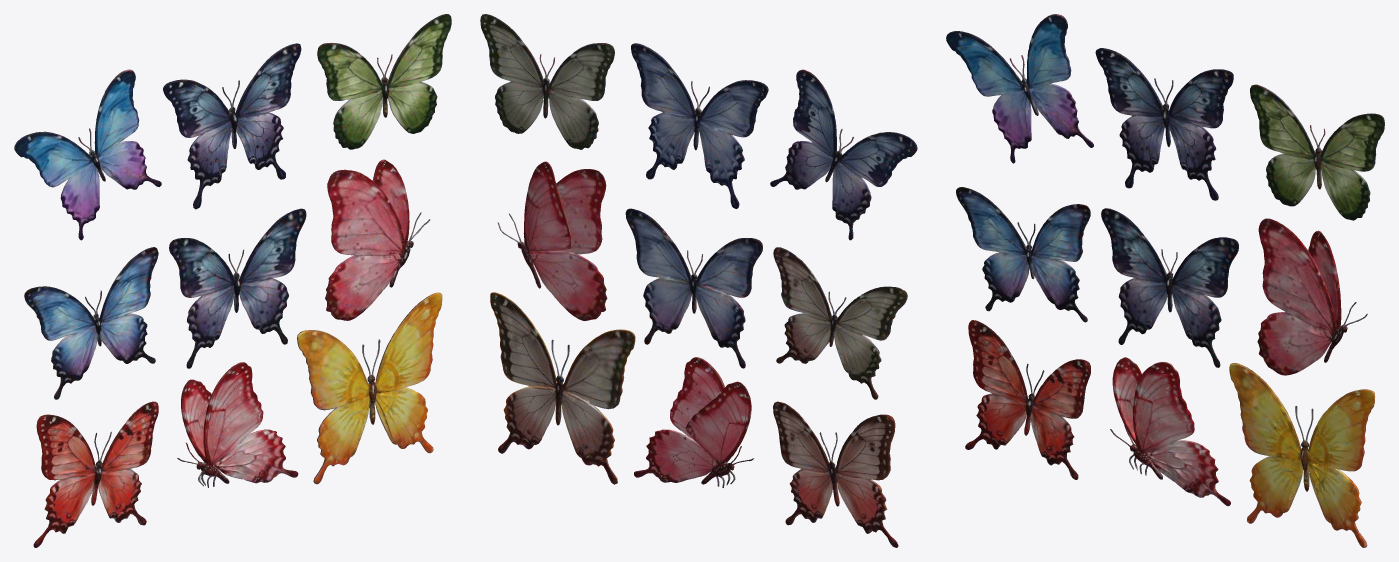
The picture shows the model from 3 angles, left to right: view 1: azimuth 30°, elevation 25°; view 2: azimuth 150°, elevation 25°; view 3: azimuth 330°, elevation 25°; orthographic projection.
Parts seen in each view (by area): view 1: Mesh 7, Mesh 9, Mesh 5, Mesh 4, Mesh 3, Mesh 8, Mesh 1, Mesh 2, Mesh 6; view 2: Mesh 7, Mesh 9, Mesh 5, Mesh 4, Mesh 3, Mesh 8, Mesh 1, Mesh 6, Mesh 2; view 3: Mesh 7, Mesh 9, Mesh 5, Mesh 4, Mesh 3, Mesh 8, Mesh 1, Mesh 2, Mesh 6.
Boxes of the visible parts, x1,y1,x2,y2 form: Mesh 7: [297, 292, 442, 484]; Mesh 9: [325, 159, 430, 320]; Mesh 5: [169, 208, 306, 368]; Mesh 4: [163, 43, 301, 209]; Mesh 3: [33, 401, 158, 547]; Mesh 8: [317, 14, 451, 149]; Mesh 1: [14, 69, 161, 240]; Mesh 2: [24, 247, 158, 399]; Mesh 6: [177, 362, 298, 487]; Mesh 7: [490, 292, 635, 484]; Mesh 9: [497, 161, 607, 320]; Mesh 5: [625, 208, 762, 368]; Mesh 4: [631, 43, 768, 208]; Mesh 3: [773, 401, 898, 547]; Mesh 8: [480, 14, 614, 149]; Mesh 1: [770, 69, 917, 240]; Mesh 6: [634, 357, 753, 487]; Mesh 2: [773, 247, 907, 399]; Mesh 7: [1229, 363, 1375, 547]; Mesh 9: [1257, 218, 1367, 375]; Mesh 5: [1101, 208, 1238, 367]; Mesh 4: [1095, 48, 1233, 200]; Mesh 3: [965, 320, 1090, 479]; Mesh 8: [1250, 84, 1384, 220]; Mesh 1: [946, 14, 1093, 163]; Mesh 2: [956, 187, 1090, 322]; Mesh 6: [1110, 357, 1230, 506].
Size of the model in its own units: 1.89 by 1.91 by 0.0635.
9 materials, 9 textured.
